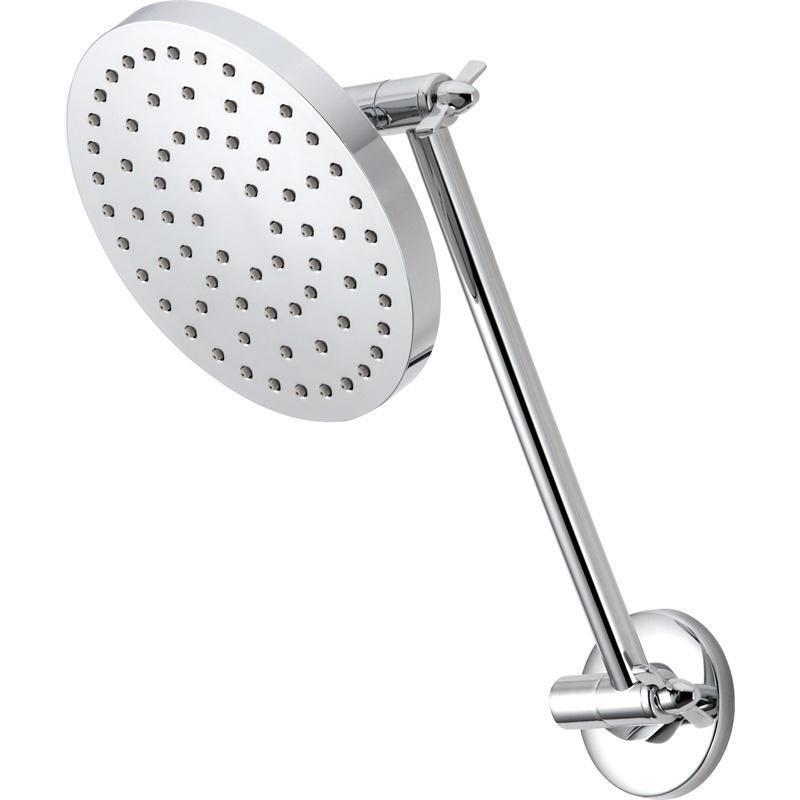Ducha: (55, 0, 748, 799)
